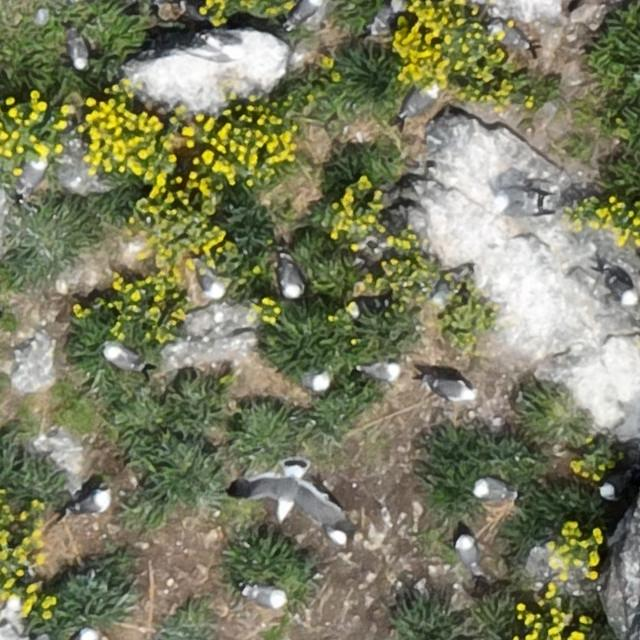F: (245, 458, 325, 520)
umineko: (491, 186, 552, 216), (196, 260, 228, 302), (326, 517, 359, 551), (295, 362, 331, 391), (368, 2, 400, 32), (430, 378, 473, 400), (280, 258, 302, 298), (20, 157, 45, 192), (104, 345, 139, 369), (404, 88, 435, 115), (248, 586, 286, 607), (472, 478, 509, 499), (607, 273, 635, 300), (602, 471, 630, 497), (458, 537, 480, 570), (496, 26, 529, 48), (76, 493, 110, 514), (344, 300, 376, 322), (363, 362, 398, 381), (69, 35, 87, 70), (290, 1, 320, 22)
